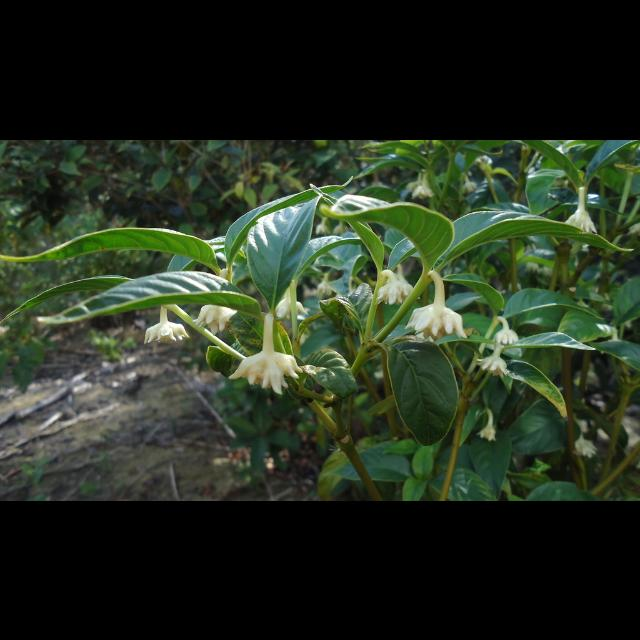Flower: (230, 312, 300, 394), (406, 300, 470, 340), (144, 310, 190, 346), (374, 269, 410, 305), (194, 302, 232, 334), (475, 356, 509, 376), (564, 214, 598, 233), (277, 294, 305, 316), (492, 326, 518, 344)
